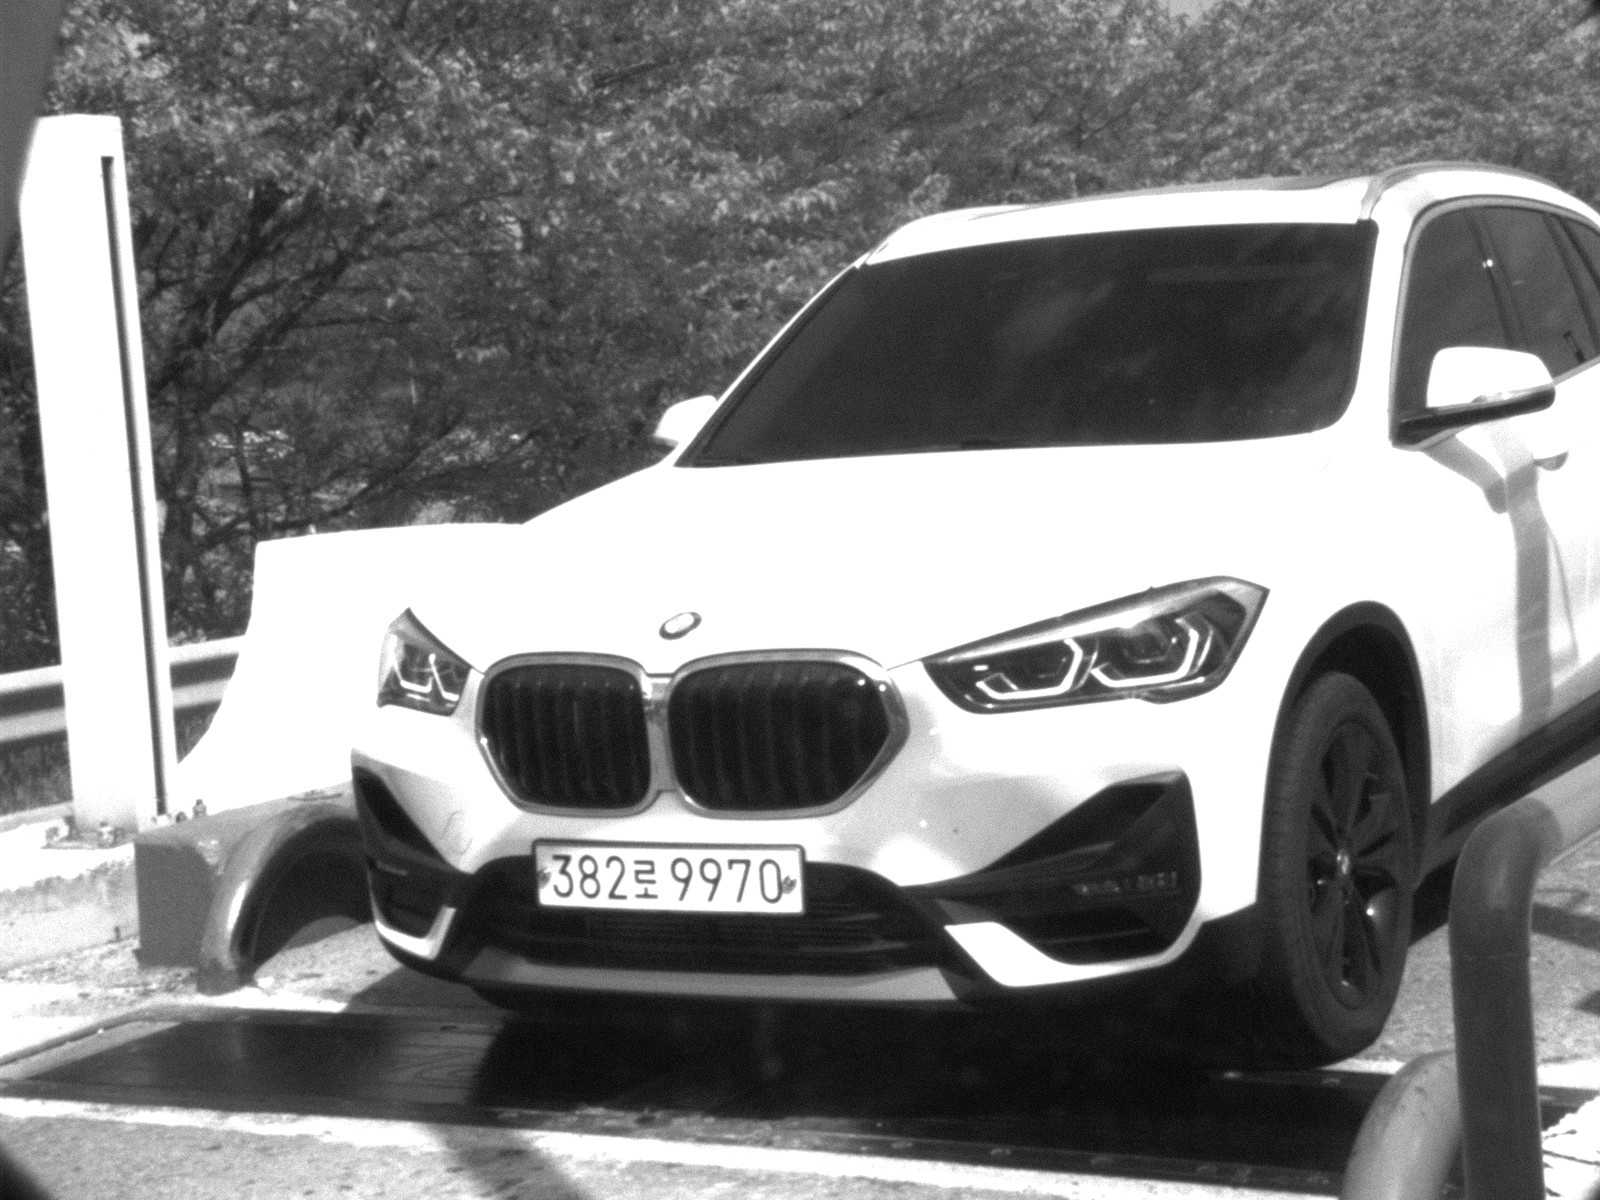car: (345, 155, 1600, 1065)
plate: (529, 840, 812, 917)
